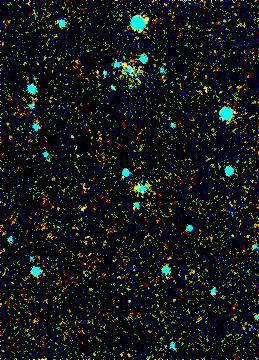star: (188, 303, 218, 333)
